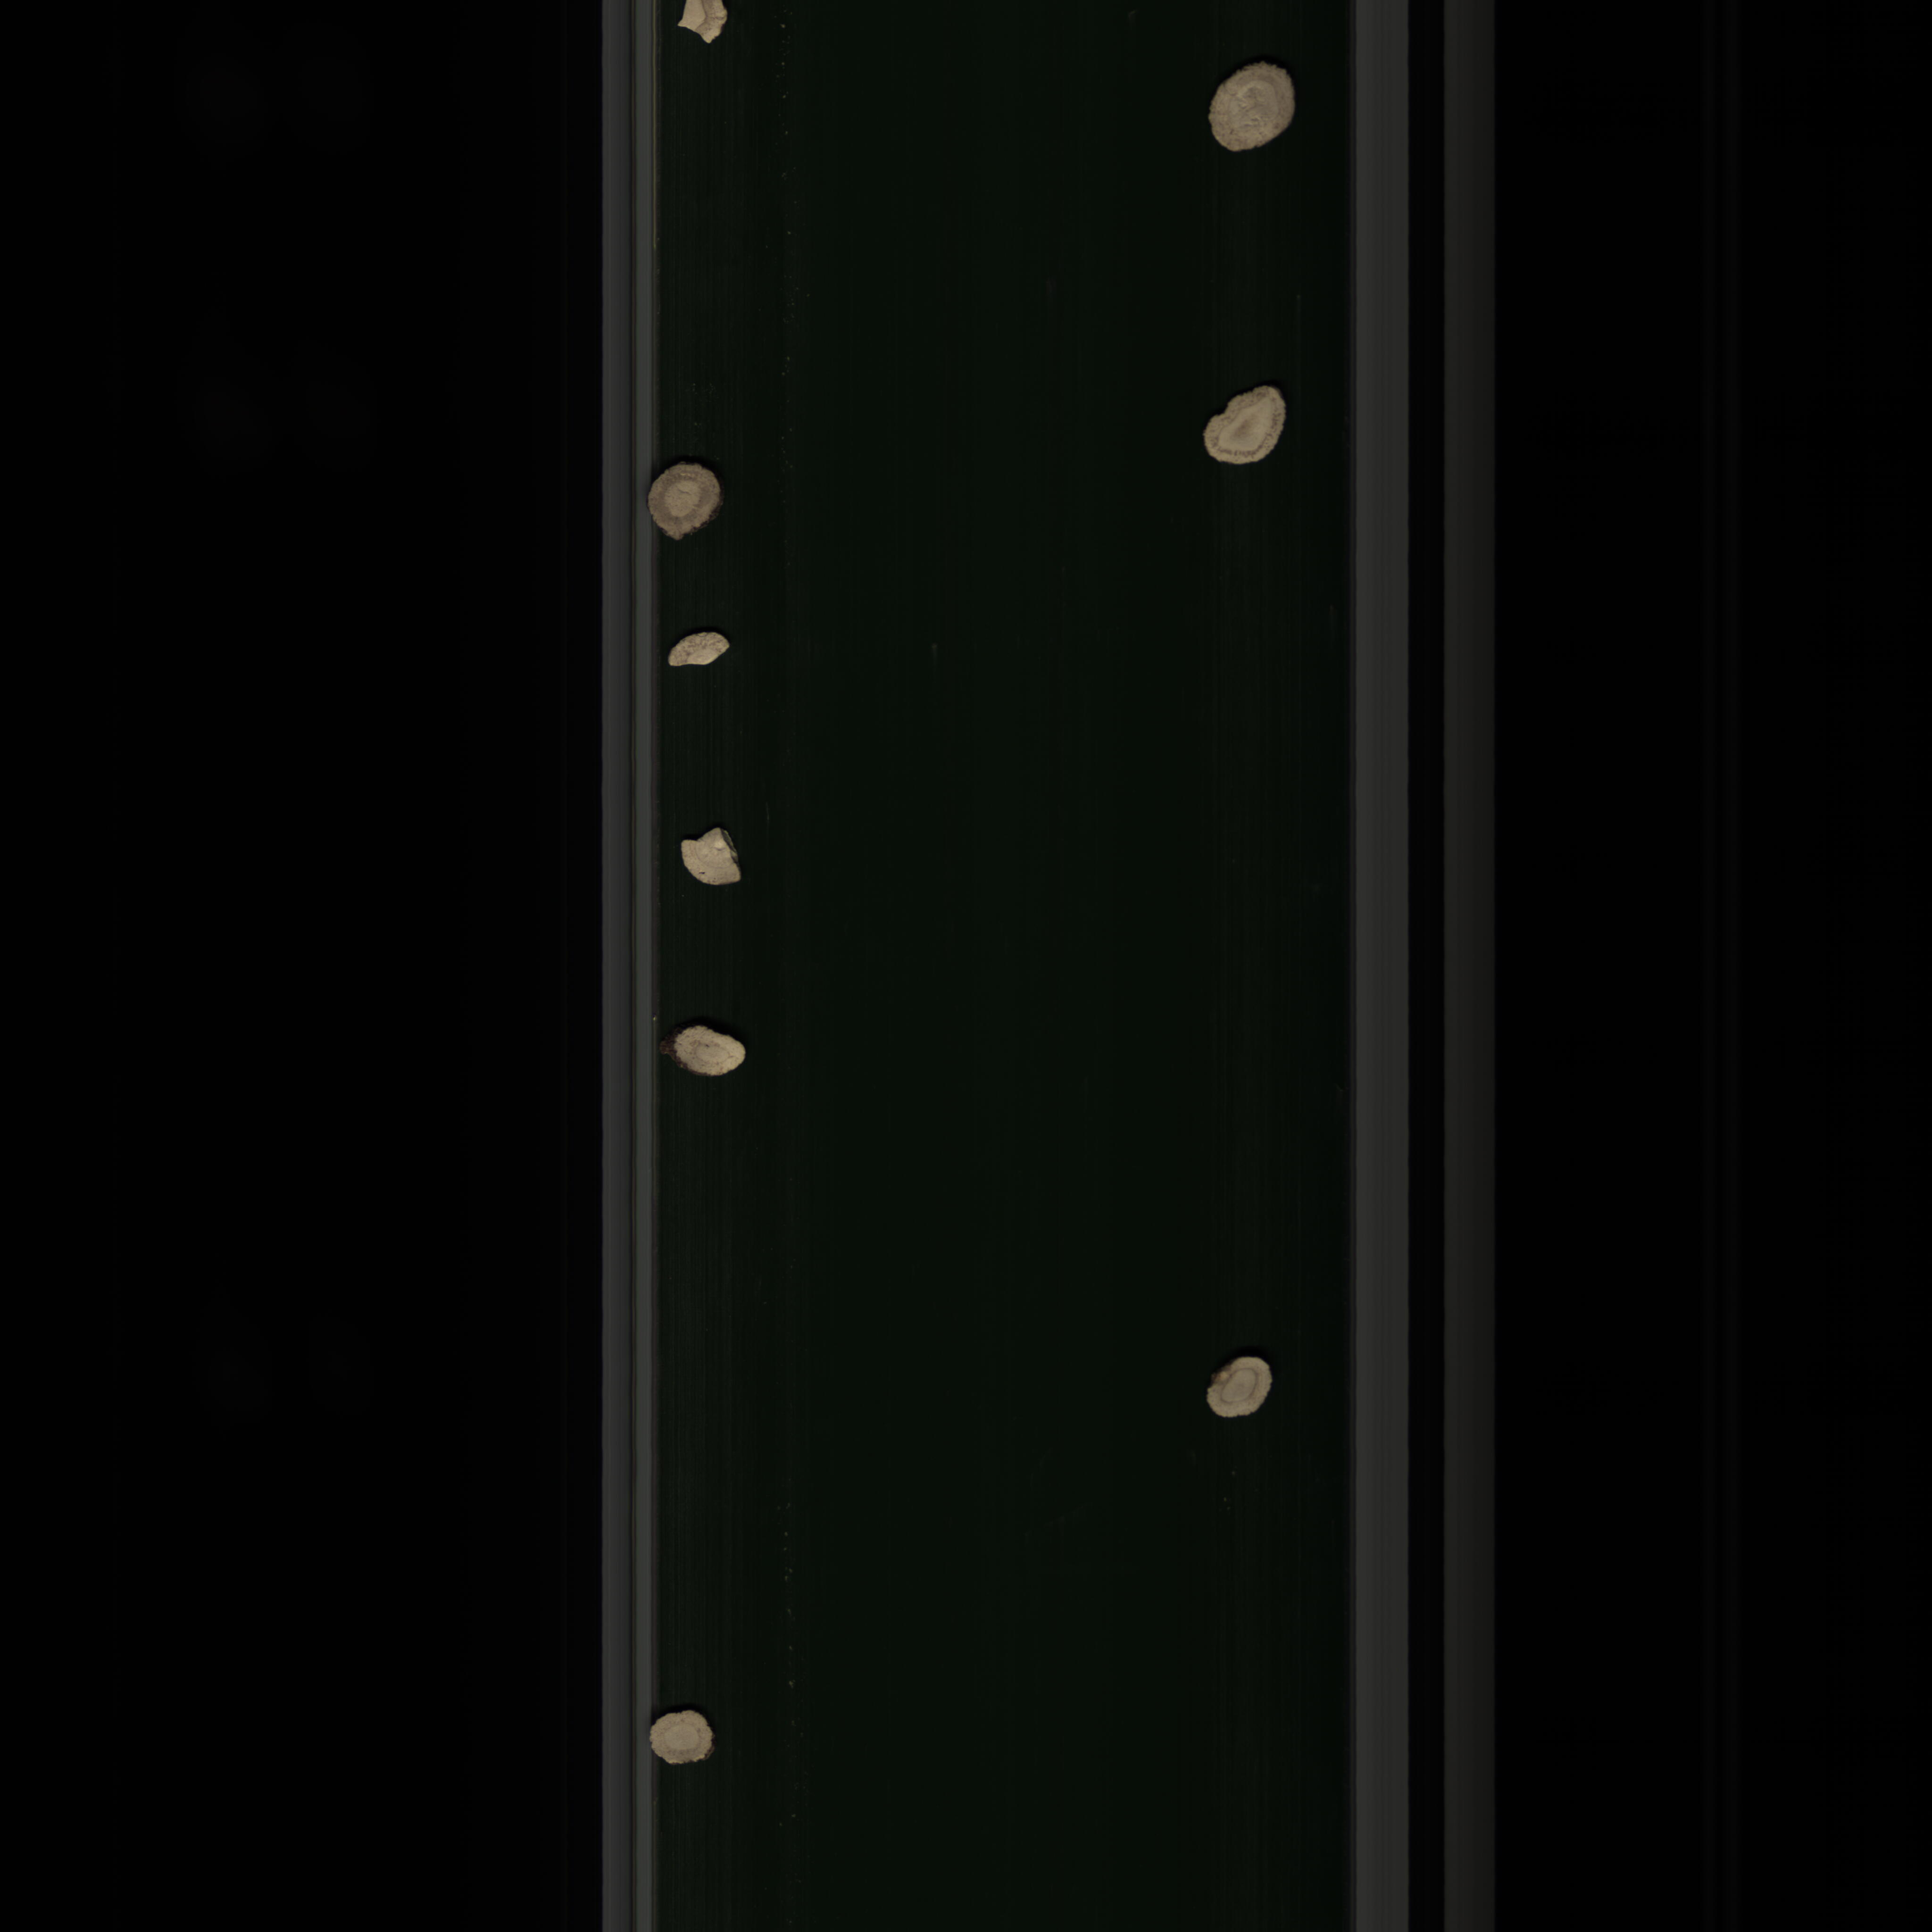debris: (672, 824, 752, 888), (660, 628, 741, 679)
distortion: (656, 1023, 755, 1088)
